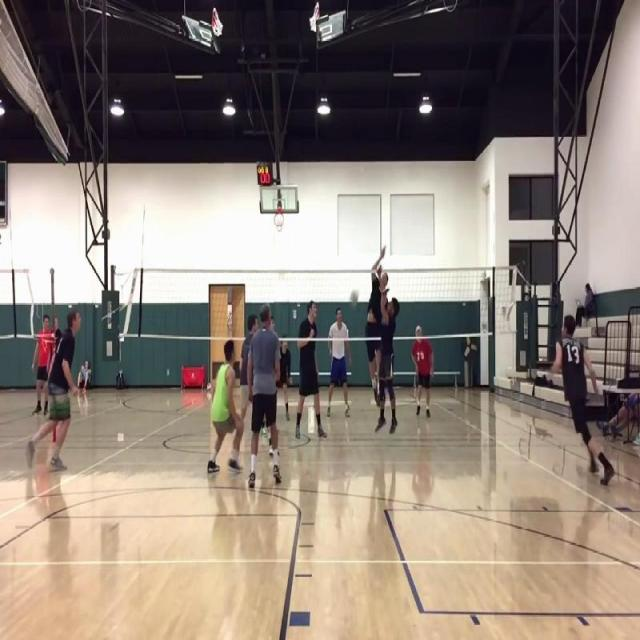volleyball: (350, 290, 358, 305)
